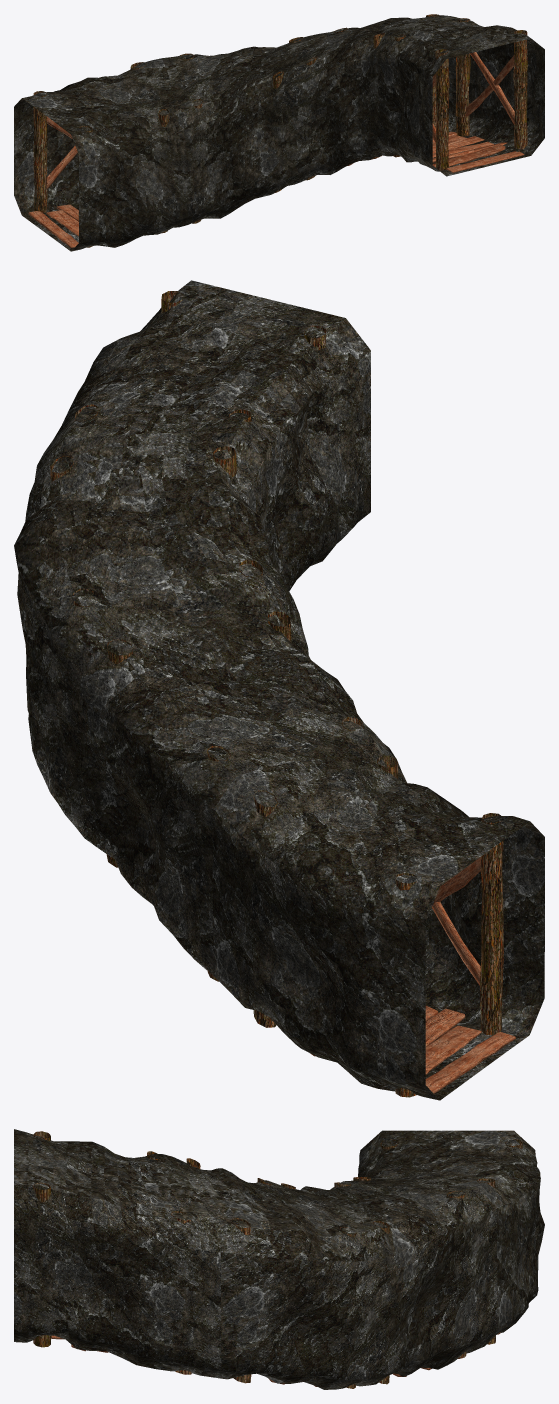
File: Cave_039.fbx
3 renders of one model, top to bottom at view 1: azimuth 30°, elevation 25°; view 2: azimuth 150°, elevation 25°; view 3: azimuth 270°, elevation 25°, orthographic. The views are drawn at different scales.
Parts seen in each view (by area): view 1: Cave.039; view 2: Cave.039; view 3: Cave.039.
Boxes of the visible parts, <box> form: Cave.039: <box>14,14,544,251</box>; Cave.039: <box>14,280,544,1100</box>; Cave.039: <box>14,1129,544,1389</box>.
Size of the model in its own units: 914 by 612 by 917.
